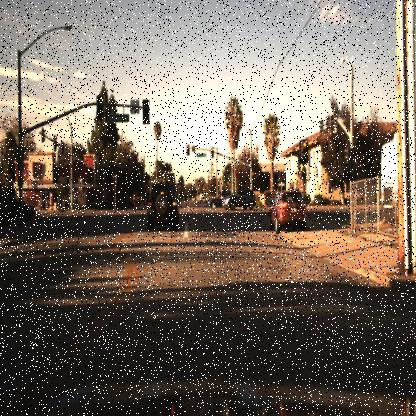car: (138, 180, 187, 236), (266, 184, 310, 236), (267, 188, 308, 230), (146, 184, 179, 230), (223, 189, 256, 211), (205, 191, 227, 210)
trafficLight-Red: (299, 134, 310, 163), (298, 137, 309, 164), (108, 170, 120, 187), (182, 140, 192, 156), (208, 144, 218, 156), (249, 168, 256, 182), (209, 144, 215, 160)
trafficLight-RedLeft: (184, 138, 192, 160)
